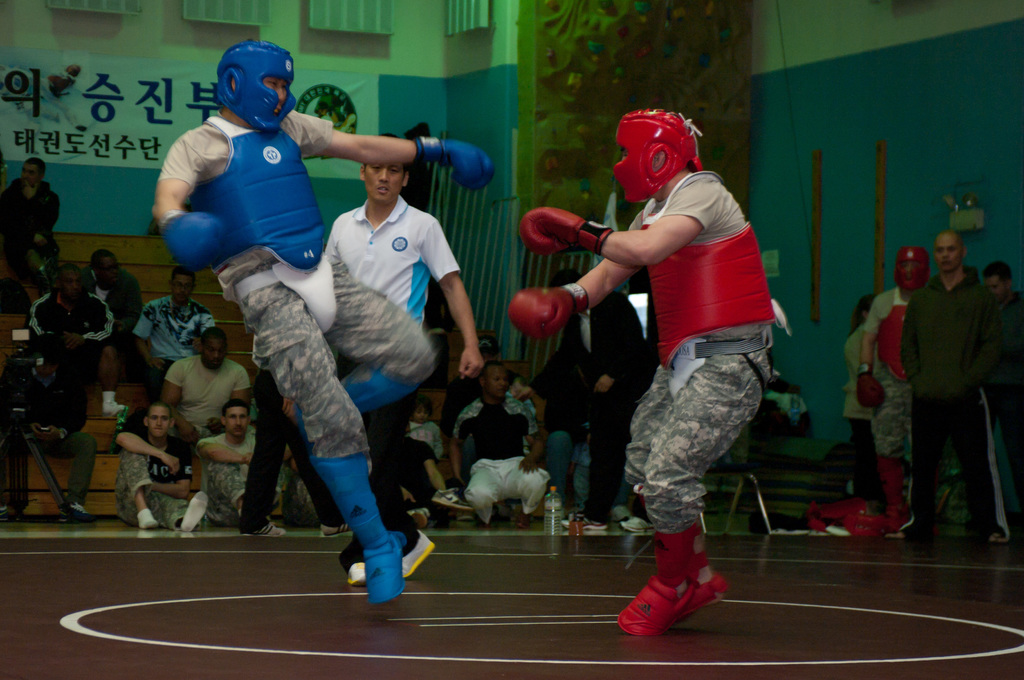Footwear: (309, 451, 414, 603), (622, 540, 735, 655), (399, 534, 433, 581), (435, 487, 477, 511), (561, 514, 607, 534), (99, 391, 130, 418), (63, 498, 94, 523), (620, 512, 655, 534), (706, 570, 728, 603), (345, 560, 370, 586), (405, 507, 430, 528), (514, 509, 531, 531), (0, 502, 9, 522), (475, 518, 492, 528)
